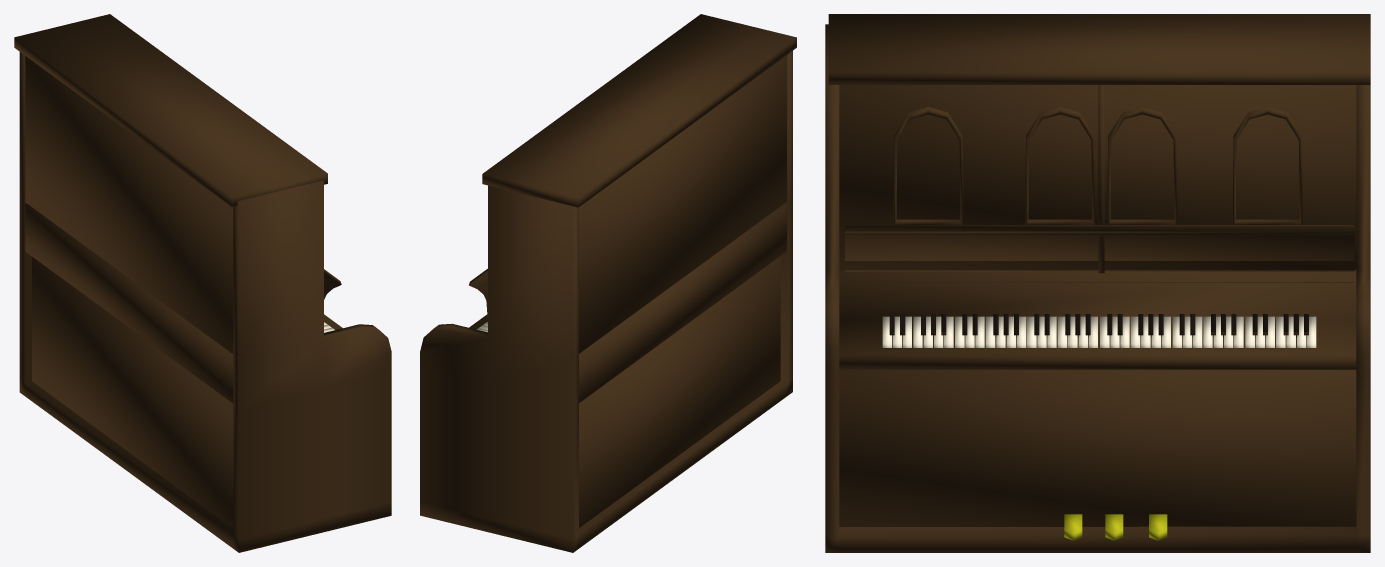
File: Piano.glb
3 views of the same model, side by side, from view 1: azimuth 30°, elevation 25°; view 2: azimuth 150°, elevation 25°; view 3: azimuth 270°, elevation 25° (orthographic). The views are drawn at different scales.
Parts seen in each view (by area): view 1: Piano; view 2: Piano; view 3: Piano.
Part boxes in pixels (box(x1,y1,x2,y2)): Piano: box(14, 14, 391, 552); Piano: box(420, 14, 796, 552); Piano: box(825, 14, 1370, 552).
Size of the model in its own units: 0.5487 by 1.08 by 1.2.
